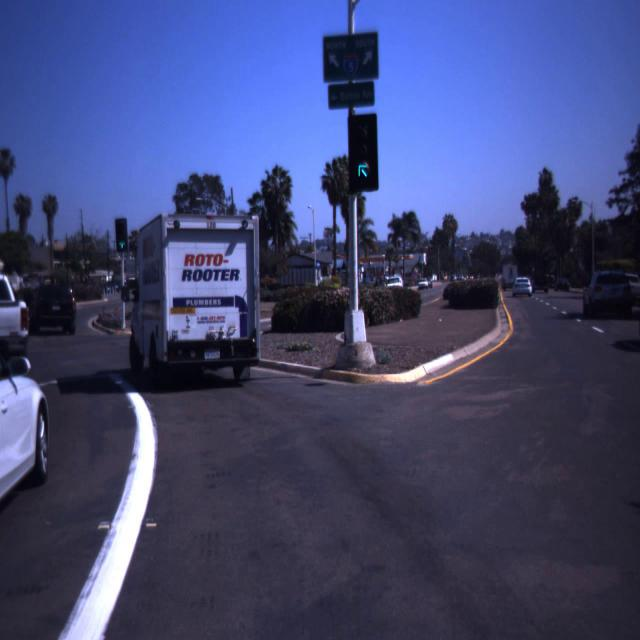yesil: (348, 115, 378, 192), (115, 218, 128, 252)
